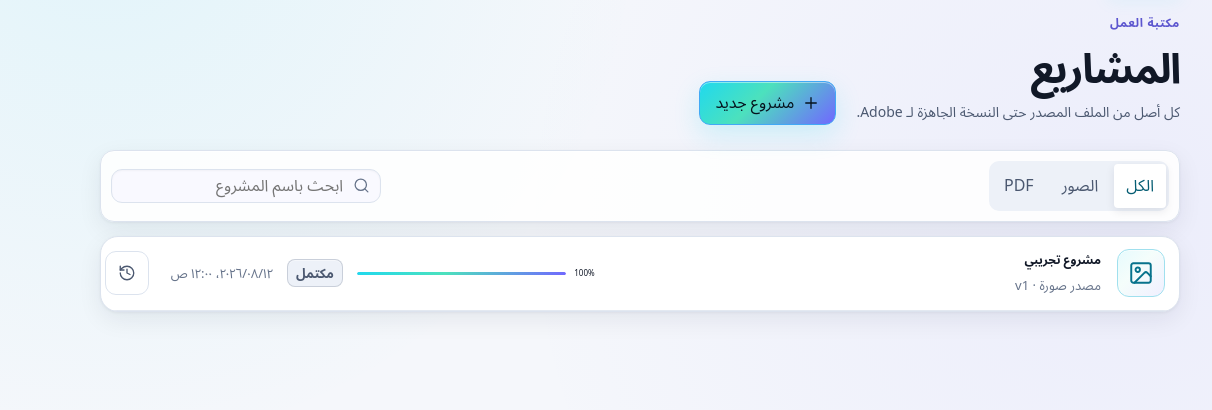
Test: ProjectsView › aborts a source-version request when its project is collapsed
The image size is (1212, 410).
Click the button named "إصدارات المصدر".
click(127, 273)  # box [105,251,149,295]
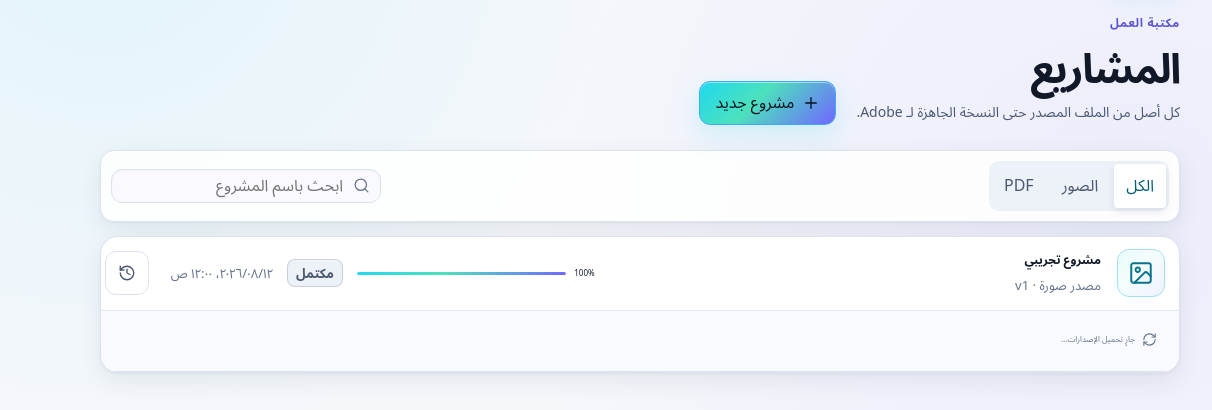
Click the button named "إصدارات المصدر".
click(127, 273)  # box [105,251,149,295]
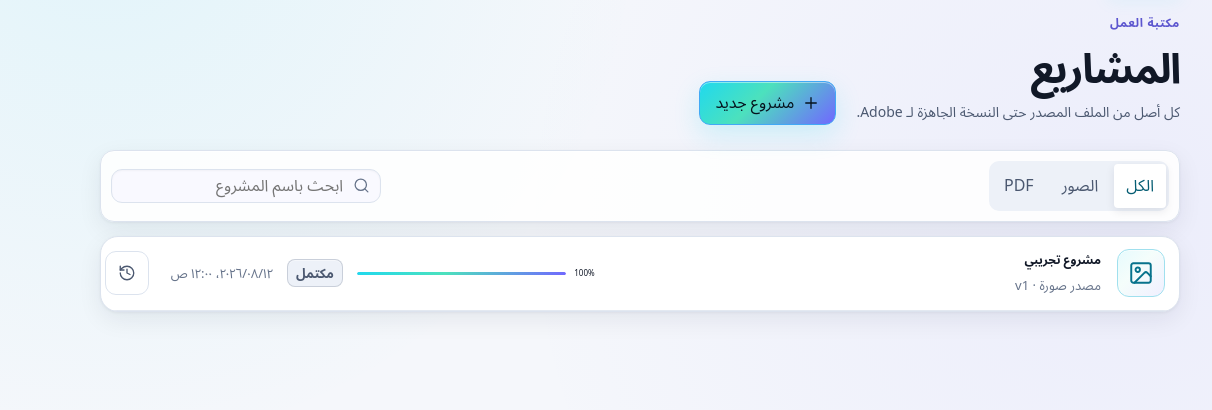
Expected: the text "جارٍ تحميل الإصدارات…" is gone
